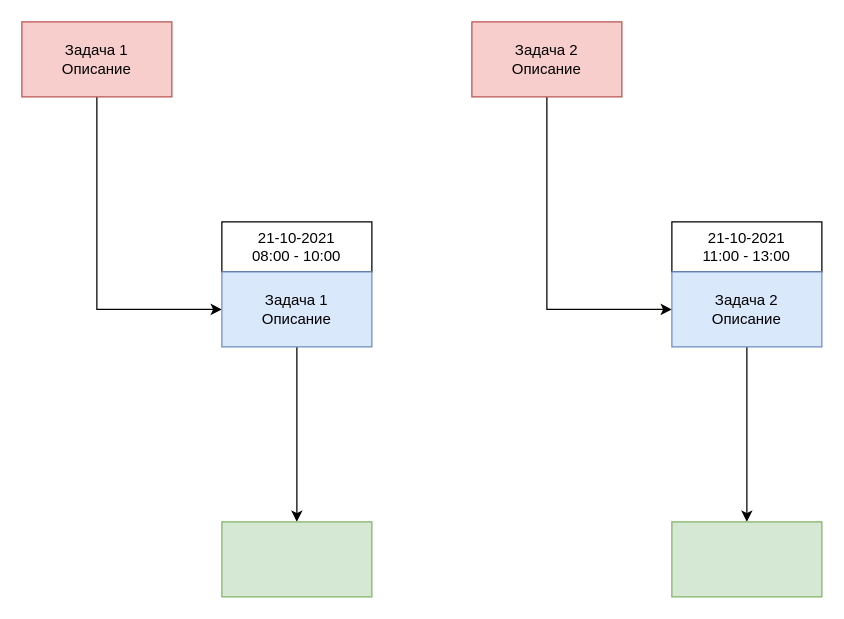
Some shapes in this 844 by 619 pixel diagram are drawn without their labels. The centre of each missing label's shape, as x and y in pixels:
[closed] Задача 1 Описание: point 296,559
[closed] Задача 2 Описание: point 746,559
